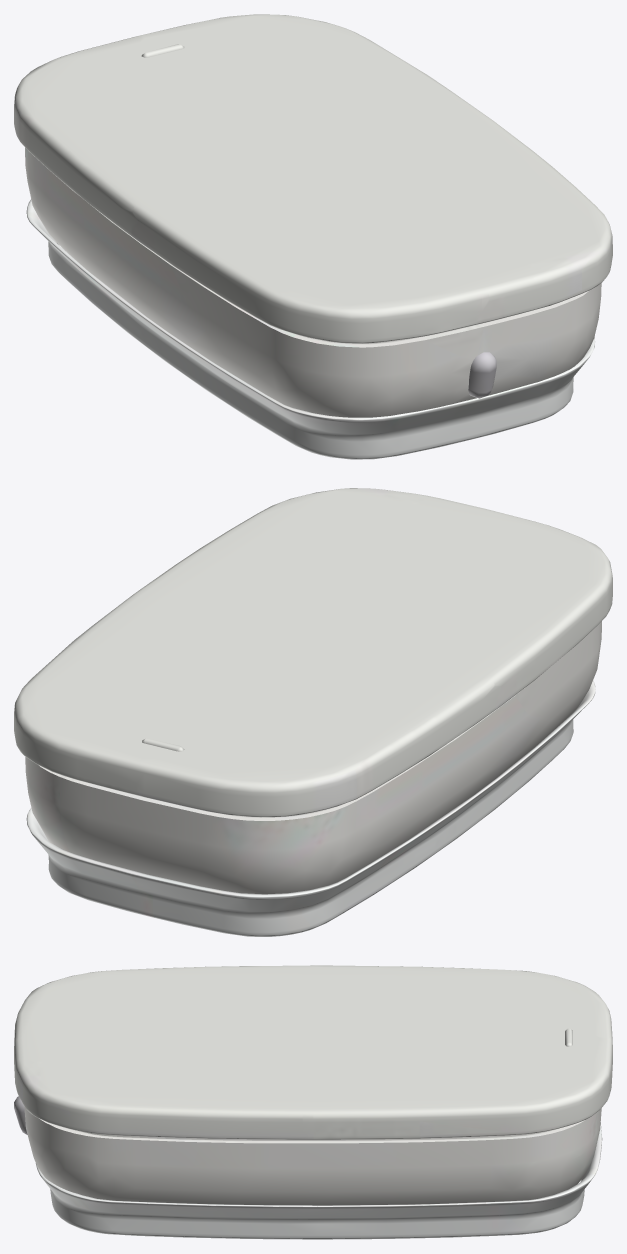
File: SOMRIG Lanceur de scénario connecté blanc connecté.glb
The picture shows the model from 3 angles, top to bottom: view 1: azimuth 30°, elevation 25°; view 2: azimuth 150°, elevation 25°; view 3: azimuth 270°, elevation 25°; orthographic projection. The views are drawn at different scales.
Parts seen in each view (by area): view 1: ASY_ART_50560334_S01_NV01; view 2: ASY_ART_50560334_S01_NV01; view 3: ASY_ART_50560334_S01_NV01.
Part boxes in pixels (x1,y1,x2,y2): ASY_ART_50560334_S01_NV01: (14,14,612,459); ASY_ART_50560334_S01_NV01: (14,488,612,936); ASY_ART_50560334_S01_NV01: (14,965,612,1239).
Bounding box in the file's own units: 0.0441 × 0.0197 × 0.0741.
Materials: 1 (1 with a texture image).
